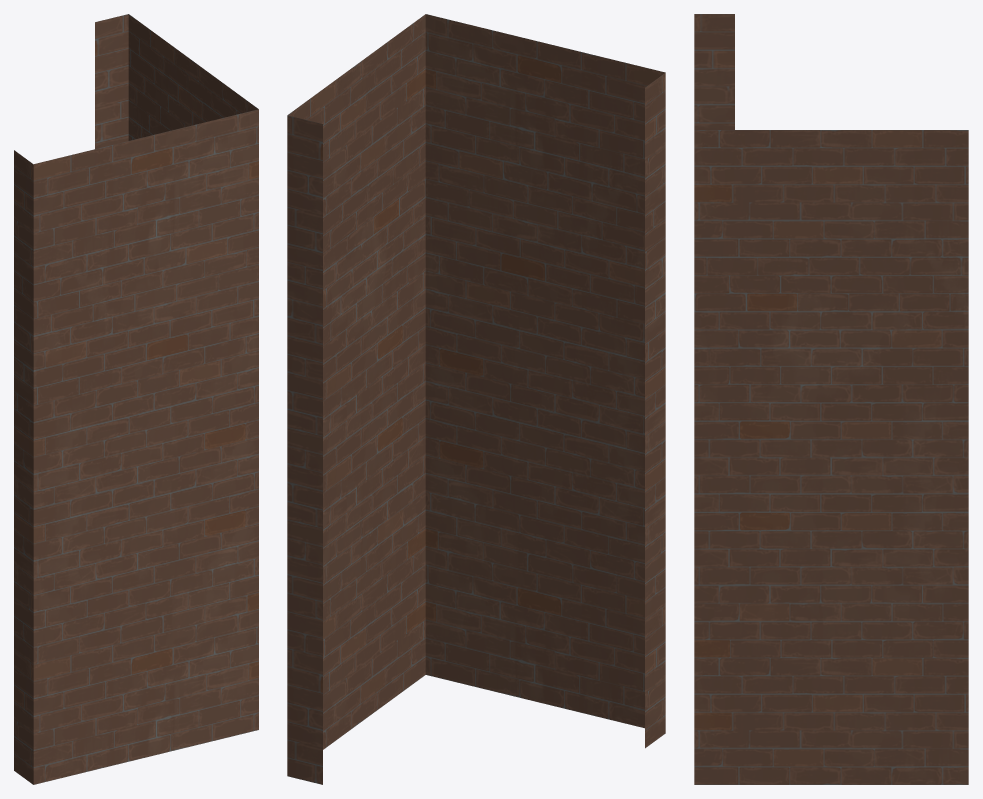
The model's file is Brick_CornerColumn_Center.gltf.
3 renders of one model, left to right at view 1: azimuth 30°, elevation 25°; view 2: azimuth 150°, elevation 25°; view 3: azimuth 270°, elevation 25°, orthographic. The views are drawn at different scales.
Visible parts, largest first — view 1: Brick_CornerColumn_Center; view 2: Brick_CornerColumn_Center; view 3: Brick_CornerColumn_Center.
Part boxes in pixels (x1,y1,x2,y2): Brick_CornerColumn_Center: [14, 14, 258, 784]; Brick_CornerColumn_Center: [287, 14, 665, 784]; Brick_CornerColumn_Center: [694, 14, 968, 784].
Size of the model in its own units: 1.14 by 3 by 1.14.
Materials: 1 (1 with a texture image).
